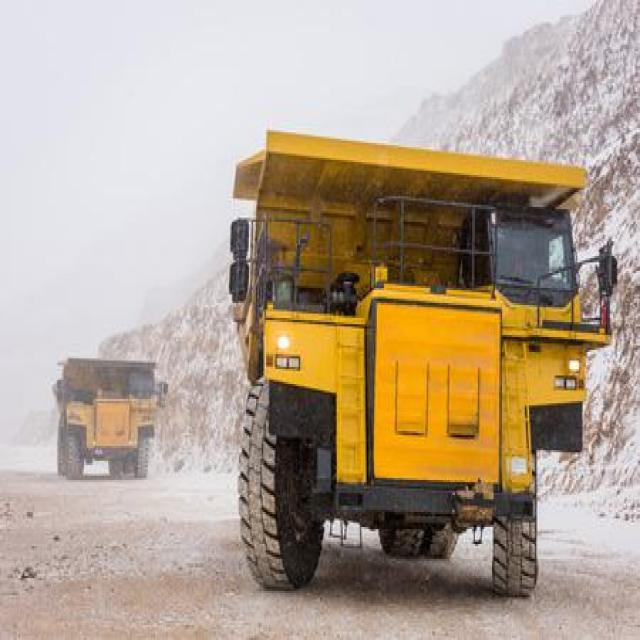Camion volquete: (227, 121, 623, 618), (51, 348, 169, 486)
